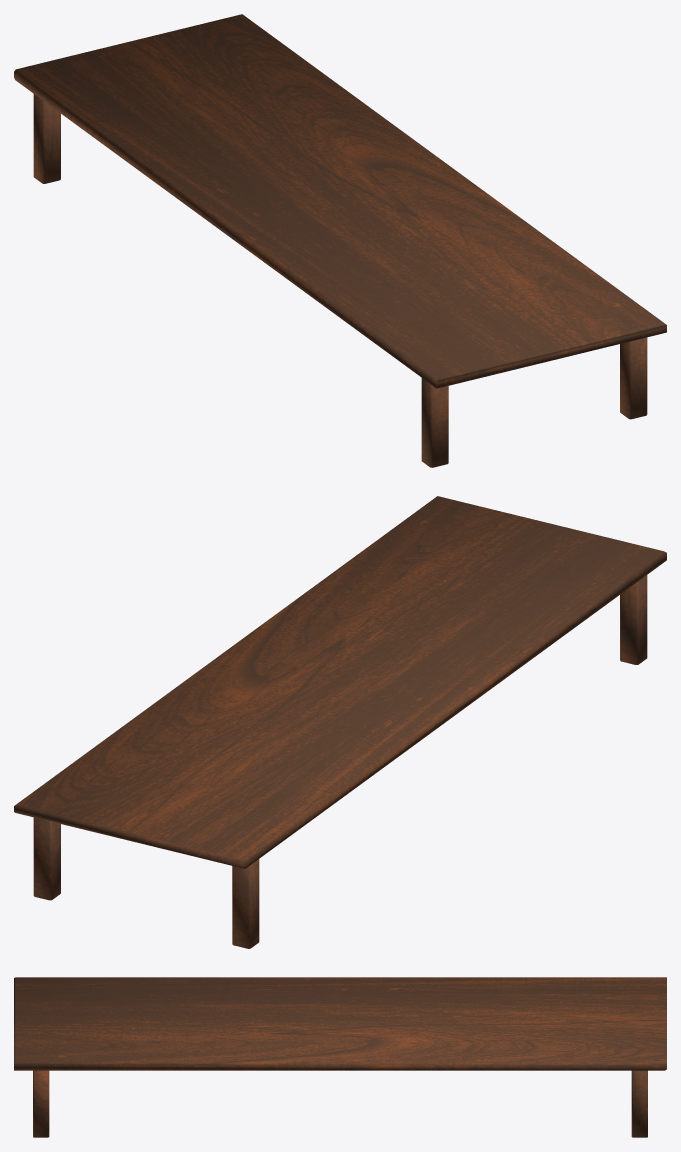
File: Mesa.glb
The picture shows the model from 3 angles, top to bottom: view 1: azimuth 30°, elevation 25°; view 2: azimuth 150°, elevation 25°; view 3: azimuth 270°, elevation 25°; orthographic projection. The views are drawn at different scales.
Parts seen in each view (by area): view 1: Cube.006; view 2: Cube.006; view 3: Cube.006.
Boxes of the visible parts, <box> form: Cube.006: <box>14,14,666,467</box>; Cube.006: <box>14,496,666,948</box>; Cube.006: <box>14,977,666,1137</box>.
Size of the model in its own units: 8.58 by 3.54 by 27.28.
Materials: 1 (1 with a texture image).
